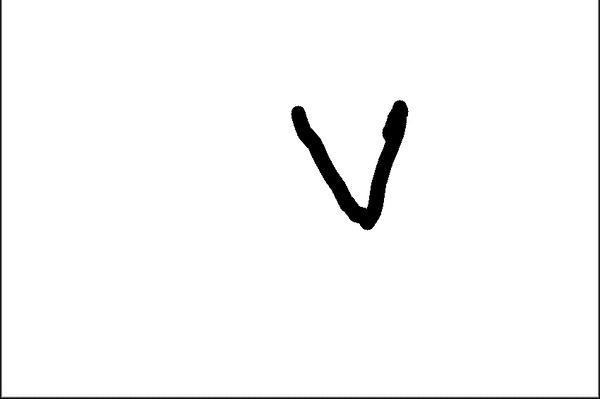V: (278, 93, 420, 237)
